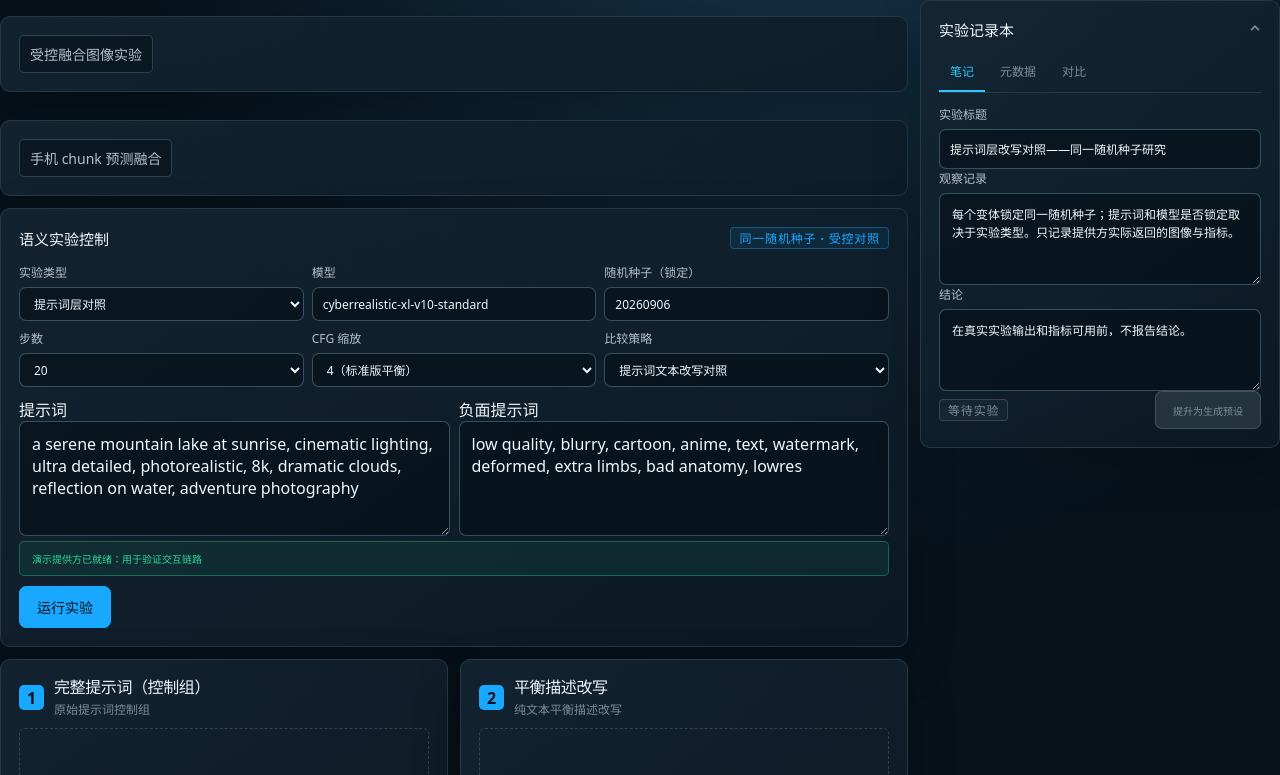
Lab page › runs a same-seed experiment and renders returned variants
Click the button "运行实验" at (65, 607), box [19, 586, 111, 628]
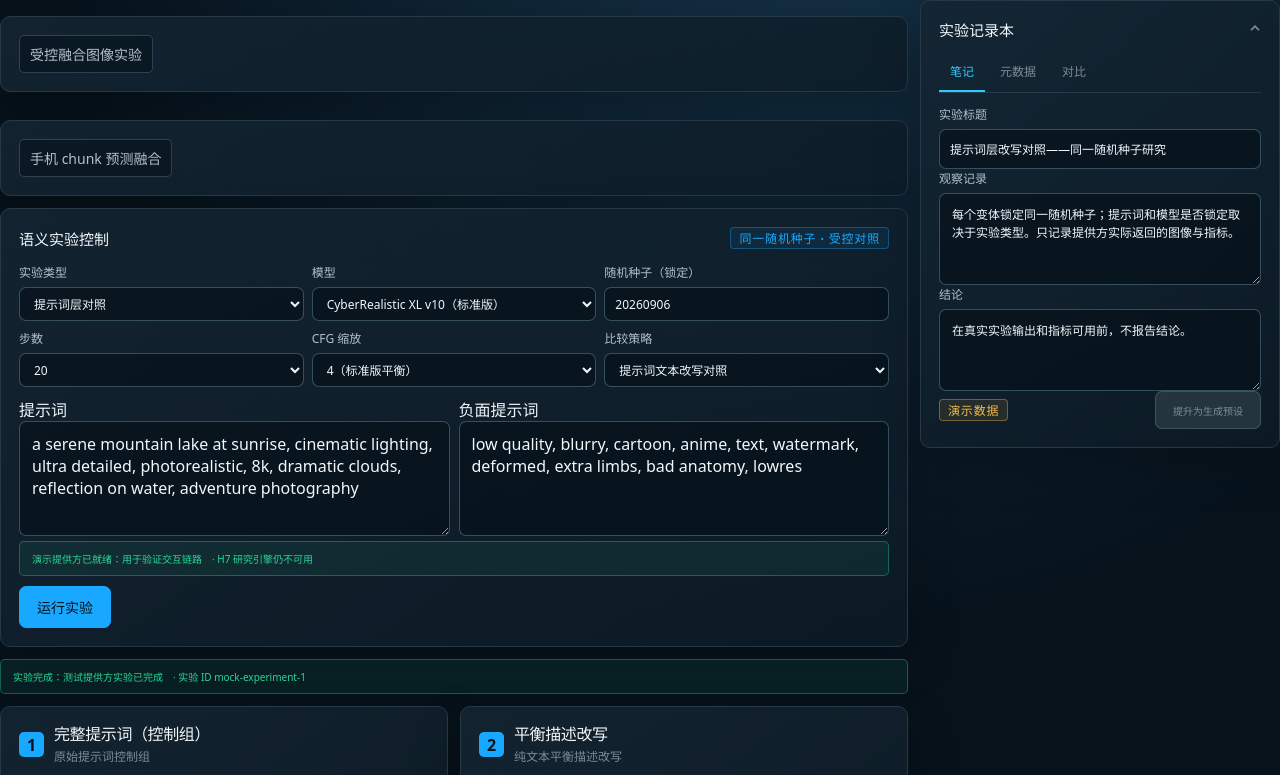
Expected: the heading "平衡描述改写" is shown, [514, 725, 622, 744]
Now the text "实验完成：测试提供方实验已完成 · 实验 ID mock-experiment-1" is shown, box [0, 659, 908, 694]
